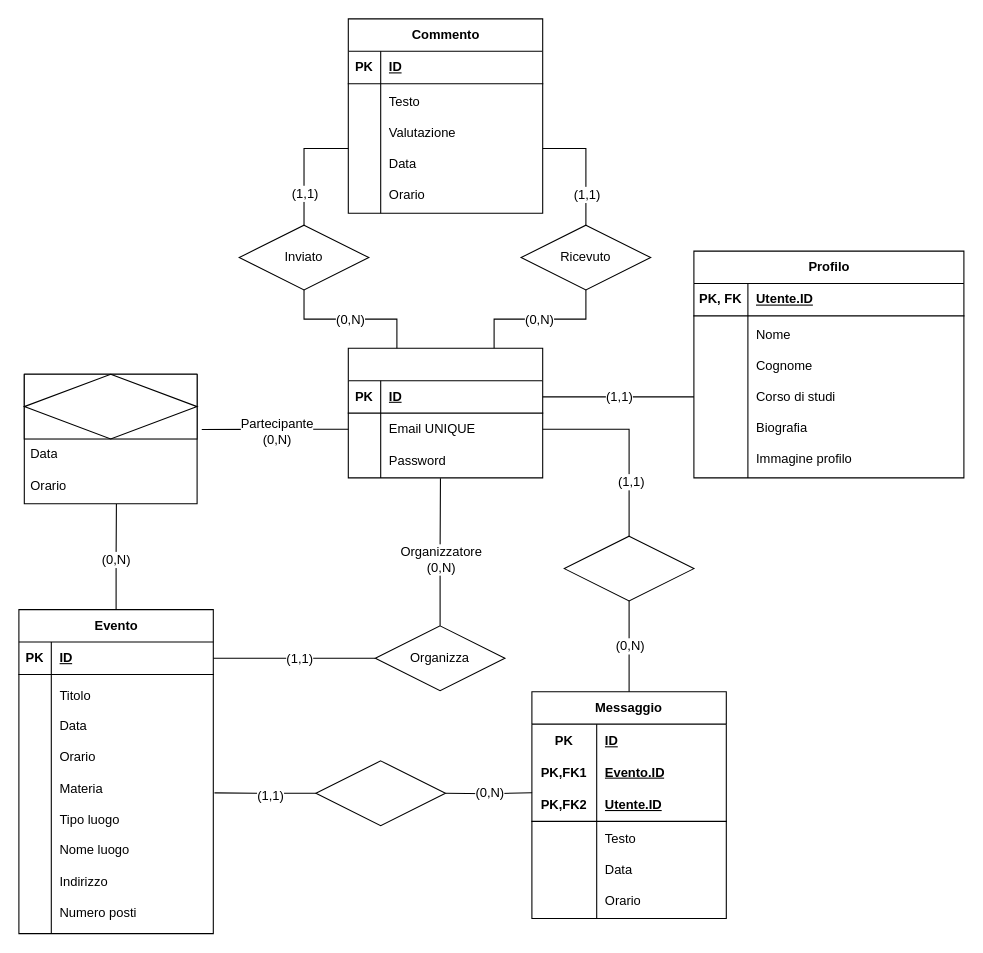
Some shapes in this 983 by 953 pixel diagram are drawn without their labels. The box of each missing label's shape, as (x1, y1, x2, y2) in pixels:
Chat: (315, 760, 446, 826)
Invia: (563, 535, 694, 601)
Prenotazione: (23, 373, 197, 439)
Utente: (347, 347, 543, 478)
